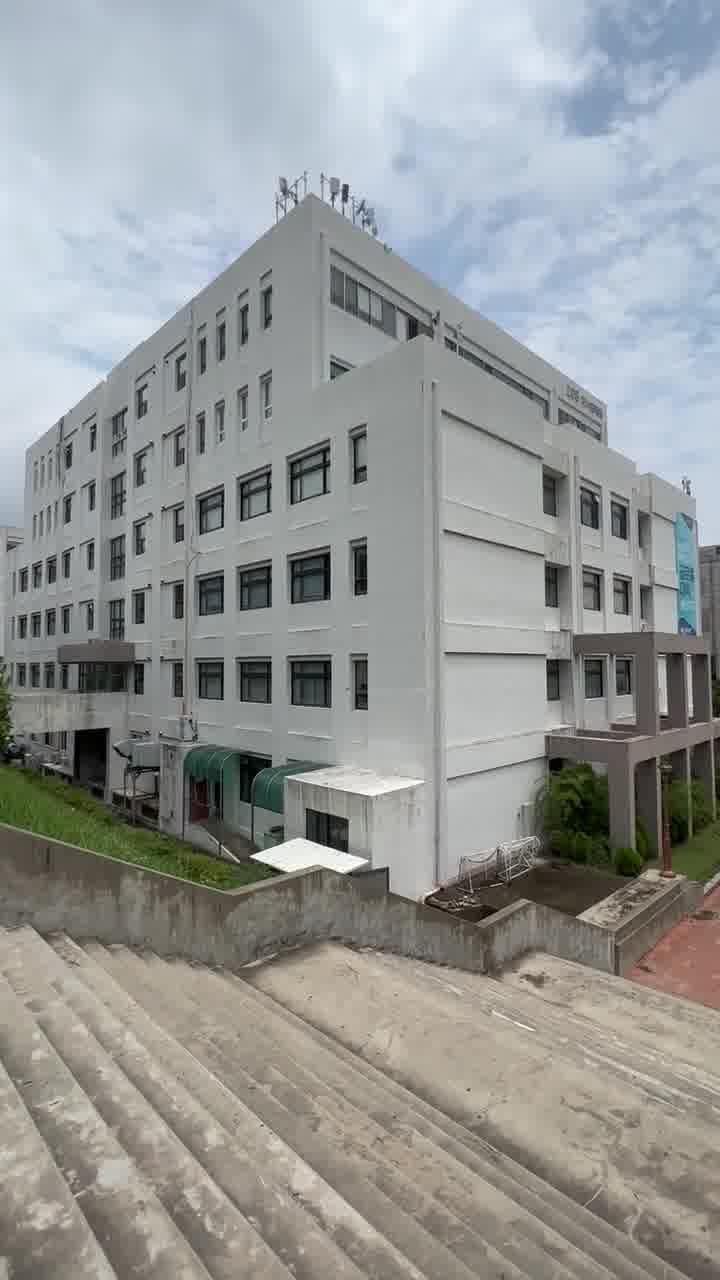building: (48, 196, 672, 810)
